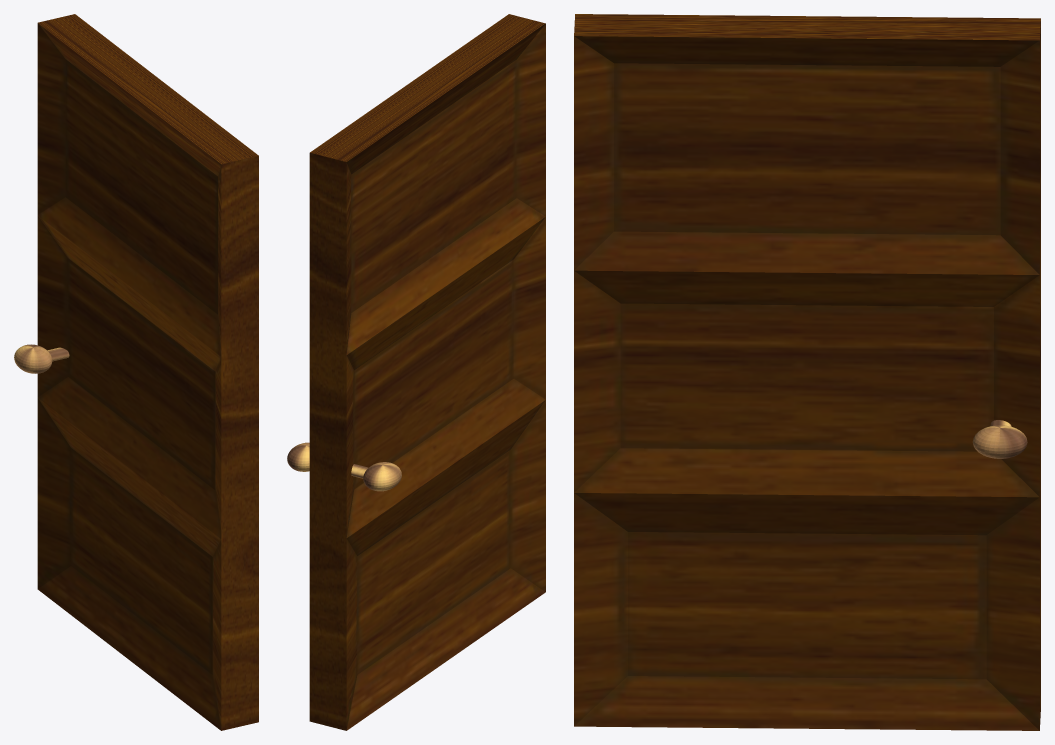
File: Door.glb
3 renders of one model, left to right at view 1: azimuth 30°, elevation 25°; view 2: azimuth 150°, elevation 25°; view 3: azimuth 270°, elevation 25°, orthographic. The views are drawn at different scales.
Visible parts, largest first — view 1: Door; view 2: Door; view 3: Door.
Part boxes in pixels (x1,y1,x2,y2): Door: [14, 14, 258, 730]; Door: [287, 14, 545, 730]; Door: [574, 14, 1040, 730].
Size of what is drawn, in the model's own units: 0.5004 by 2.51 by 1.54.
Materials: 2 (2 with a texture image).
